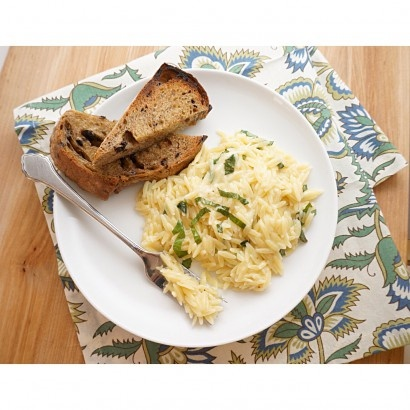background: (32, 40, 208, 209)
